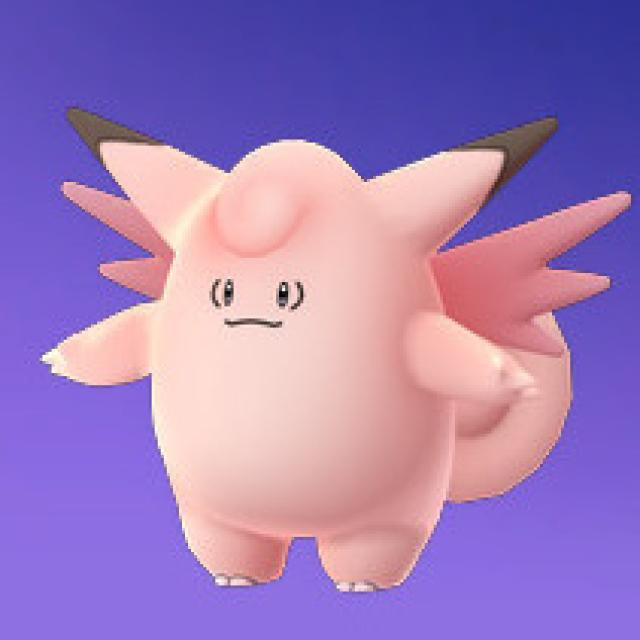Clefable: (54, 104, 567, 596)
